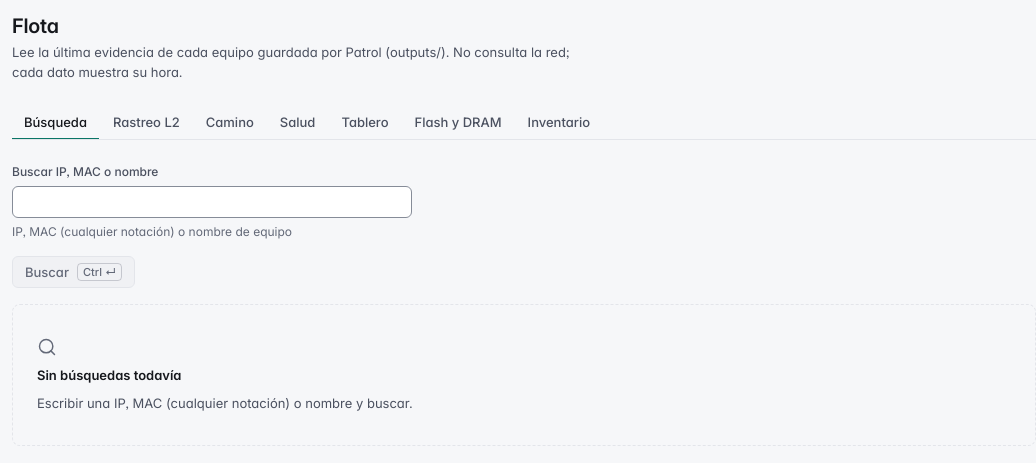
buscar espera a que haya una consulta
This screenshot has width=1036, height=463.
Expected: the button "Buscar Ctrl ↵" is disabled, [12, 256, 135, 288]
In the search field labelled "Buscar IP, MAC o nombre": [212, 202] box [12, 186, 412, 218], type "SW1"
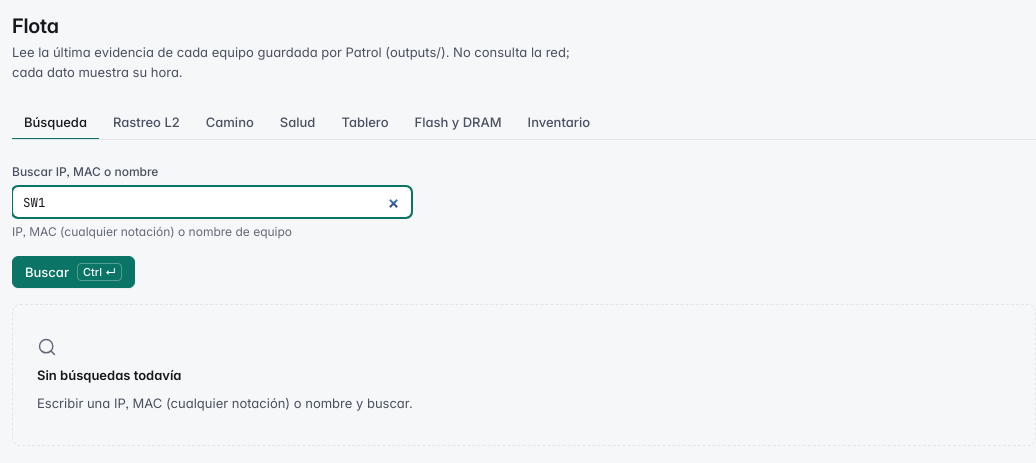
Expected: the button "Buscar Ctrl ↵" is enabled, [12, 256, 135, 288]
